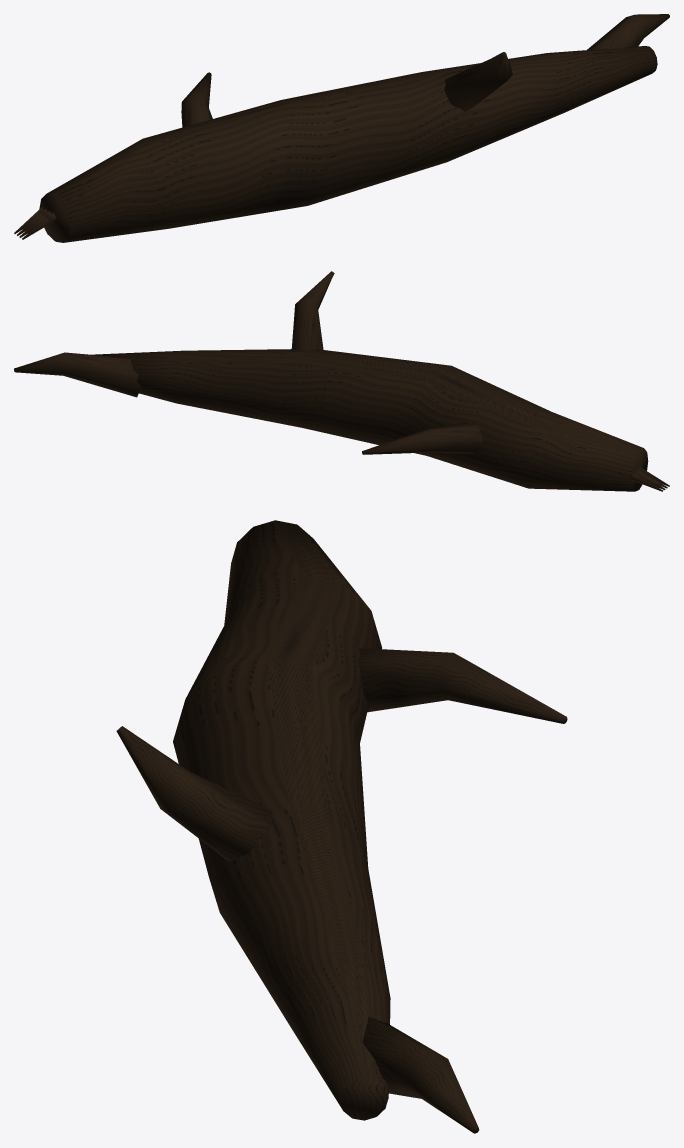
File: driftwood.glb
3 renders of one model, top to bottom at view 1: azimuth 30°, elevation 25°; view 2: azimuth 150°, elevation 25°; view 3: azimuth 270°, elevation 25°, orthographic. The views are drawn at different scales.
Parts seen in each view (by area): view 1: driftwood; view 2: driftwood; view 3: driftwood.
Boxes of the visible parts, bbox=[...] form: driftwood: bbox=[14, 14, 669, 242]; driftwood: bbox=[14, 271, 669, 491]; driftwood: bbox=[116, 520, 567, 1133].
Size of the model in its own units: 3.14 by 0.5962 by 1.01.
1 material, 1 textured.
